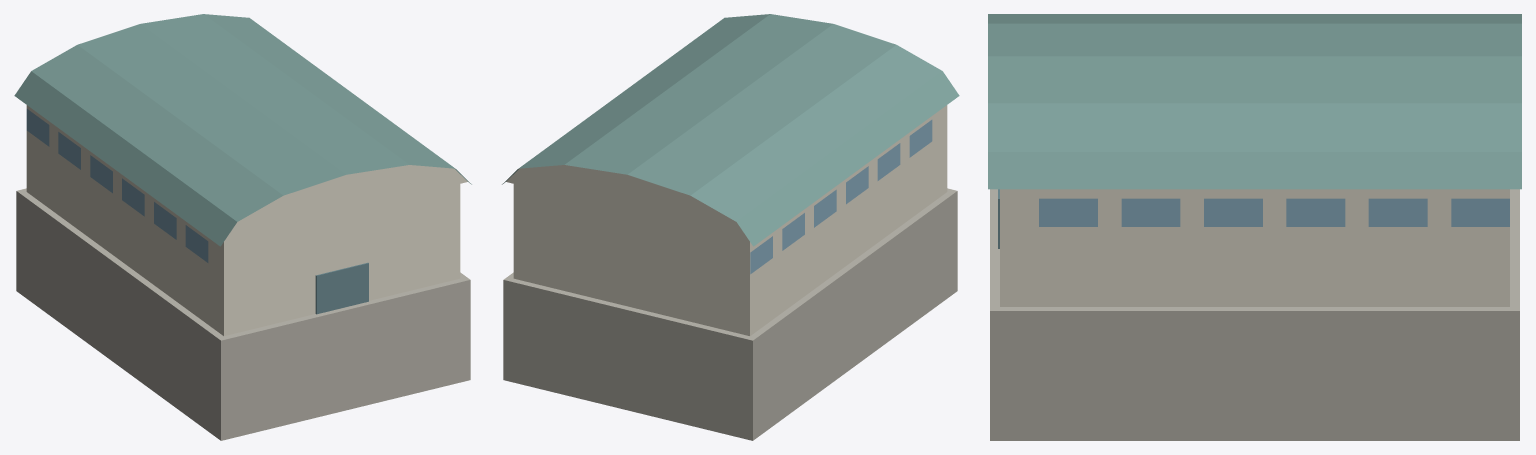
The model's file is gym.glb.
3 renders of one model, left to right at view 1: azimuth 30°, elevation 25°; view 2: azimuth 150°, elevation 25°; view 3: azimuth 270°, elevation 25°, orthographic. The views are drawn at different scales.
Visible parts, largest first — view 1: gym; view 2: gym; view 3: gym.
Boxes of the visible parts, bbox=[...] form: gym: bbox=[14, 14, 471, 440]; gym: bbox=[502, 14, 959, 440]; gym: bbox=[988, 14, 1521, 440].
Bounding box in the file's own units: 19.2 × 17.2 × 27.2.
